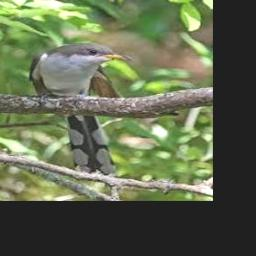Cuckoo: (28, 42, 132, 176)
